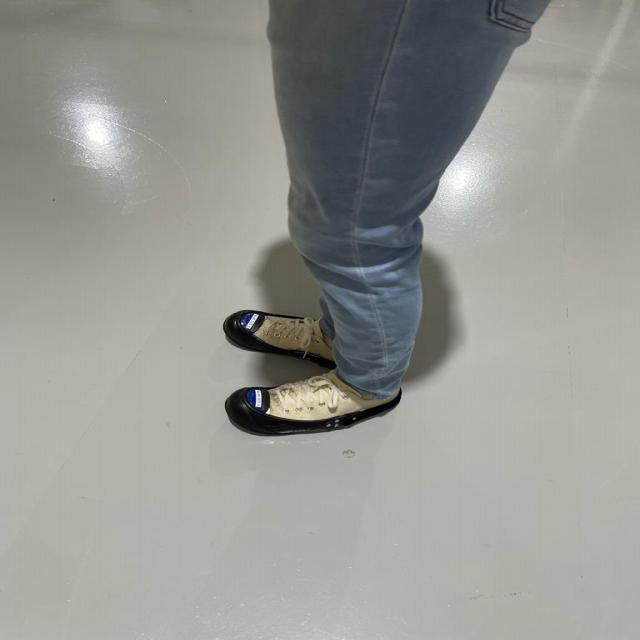shoes: (225, 372, 409, 437), (212, 298, 328, 362)
